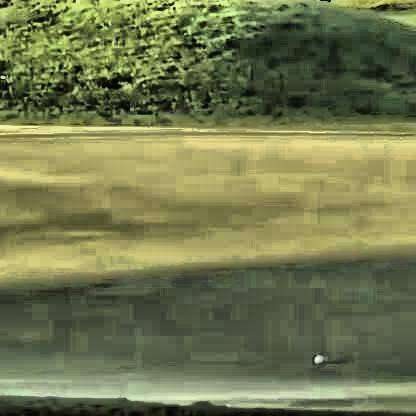golfball: (307, 353, 320, 364)
